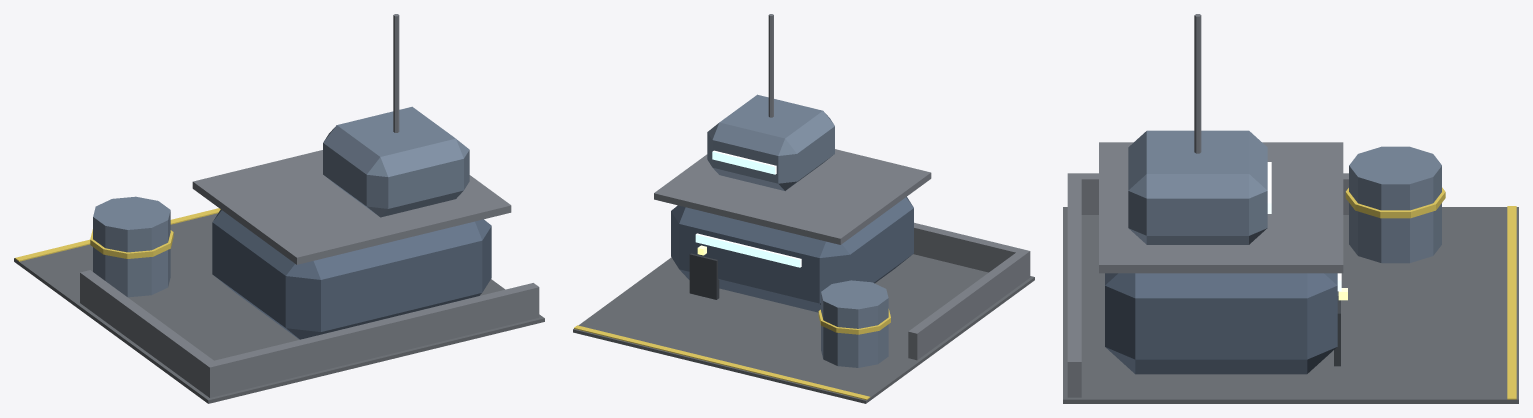
The model's file is zone_low_5.glb.
3 views of the same model, side by side, from view 1: azimuth 30°, elevation 25°; view 2: azimuth 150°, elevation 25°; view 3: azimuth 270°, elevation 25° (orthographic). The views are drawn at different scales.
Visible parts, largest first — view 1: zone_low_5, detail; view 2: zone_low_5, detail; view 3: zone_low_5, detail.
Part boxes in pixels (bbox=[...]): zone_low_5: bbox=[14, 106, 544, 403]; detail: bbox=[15, 14, 399, 261]; zone_low_5: bbox=[573, 94, 1034, 403]; detail: bbox=[574, 14, 890, 400]; zone_low_5: bbox=[1063, 130, 1518, 403]; detail: bbox=[1194, 14, 1516, 399].
Size of the model in its own units: 19.6 by 15.97 by 19.6.
